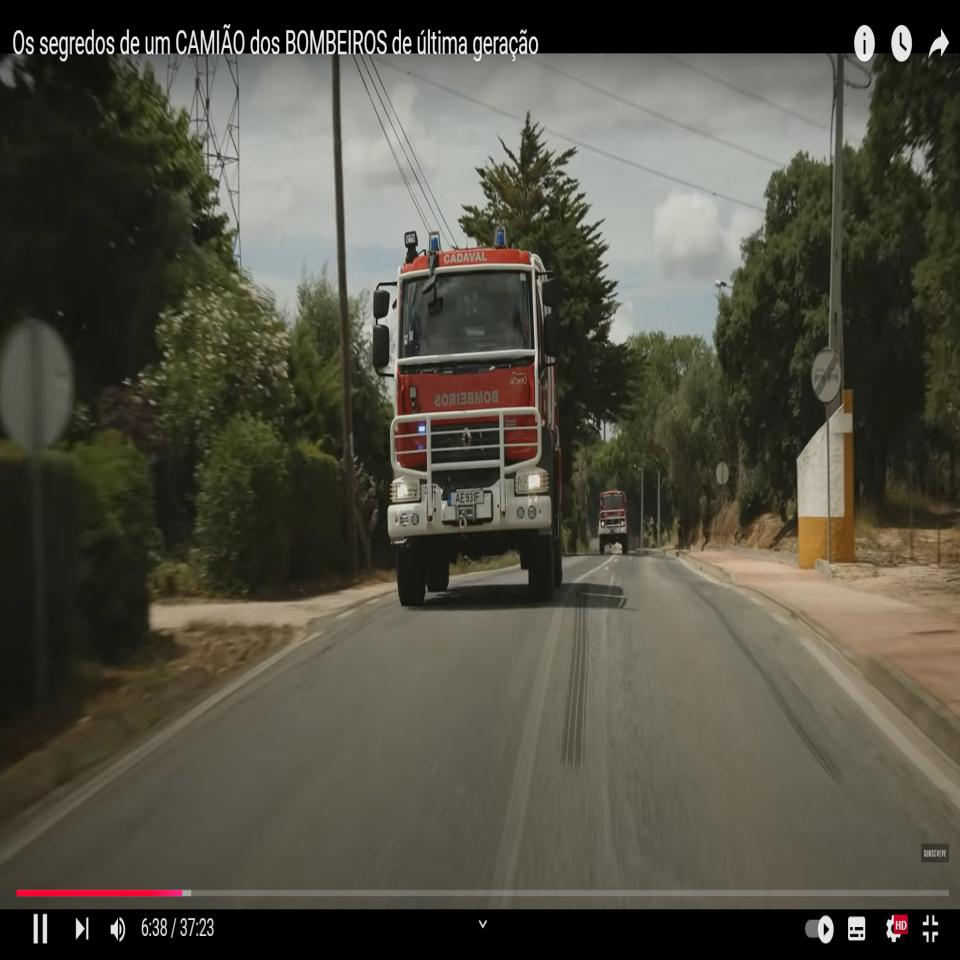viatura: (372, 227, 566, 605), (595, 490, 628, 554)
